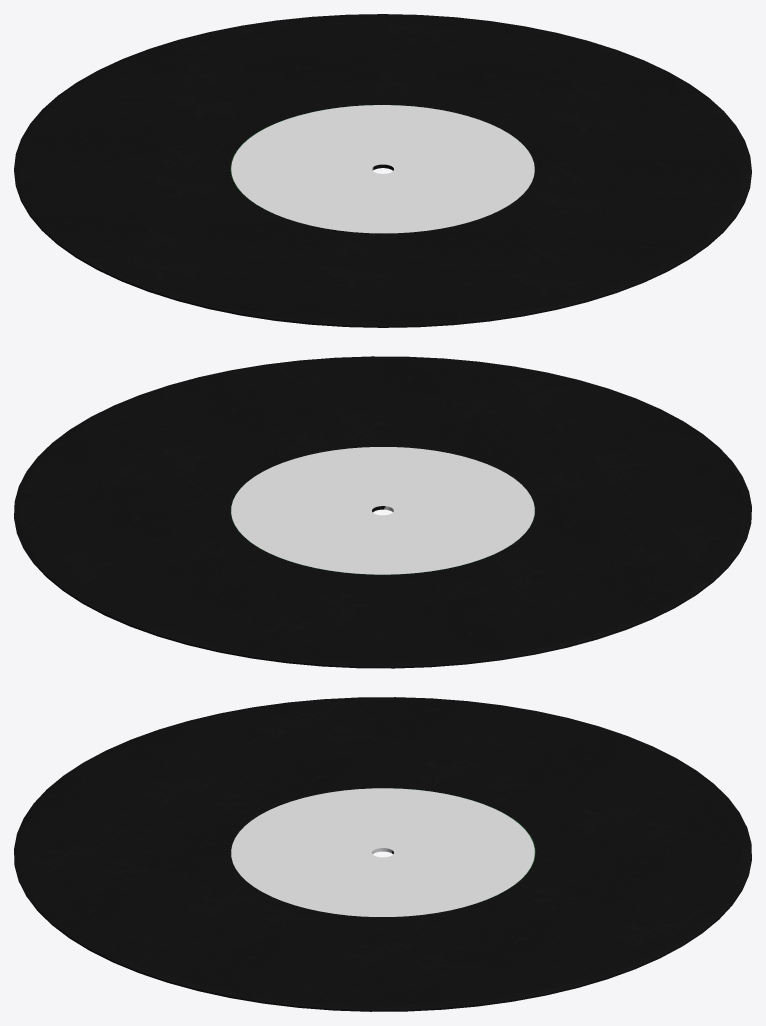
File: vinilo.glb
3 views of the same model, one above another, from view 1: azimuth 30°, elevation 25°; view 2: azimuth 150°, elevation 25°; view 3: azimuth 270°, elevation 25° (orthographic).
Parts seen in each view (by area): view 1: VinylRecord3; view 2: VinylRecord3; view 3: VinylRecord3.
Part boxes in pixels (x1,y1,x2,y2): VinylRecord3: (14,14,751,327); VinylRecord3: (14,356,751,668); VinylRecord3: (14,697,751,1011).
Size of the model in its own units: 0.2492 by 0.00188 by 0.2492.
Materials: 2 (1 with a texture image).
